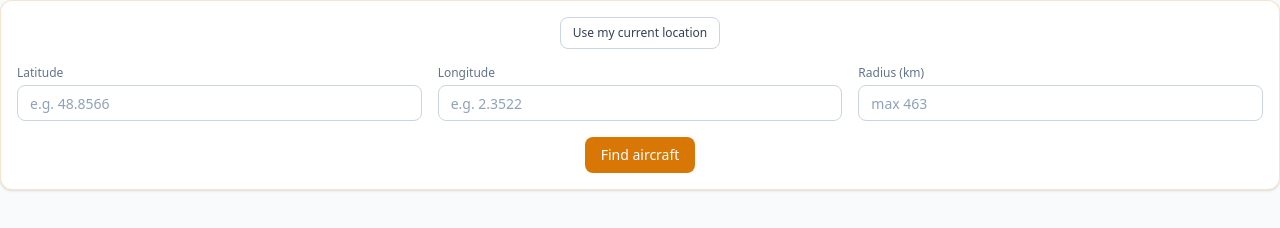
Test case: FlyOverForm › does not submit for a missing radius
Type "48.8566" into the field labelled "Latitude" at (219, 103), box [17,85,422,121]
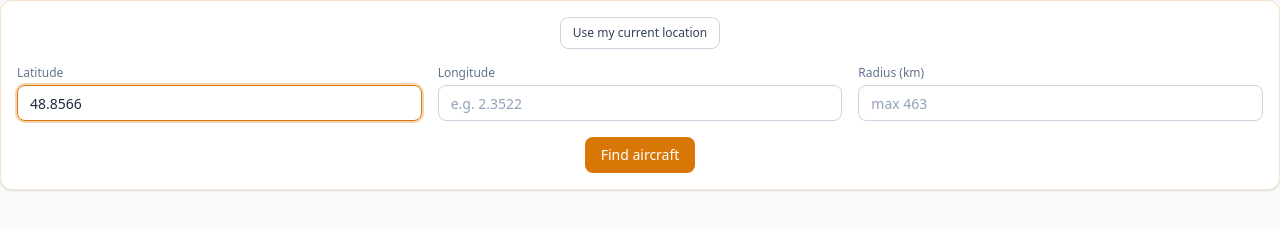
Type "2.3522" into the field labelled "Longitude" at (640, 103), box [438,85,842,121]
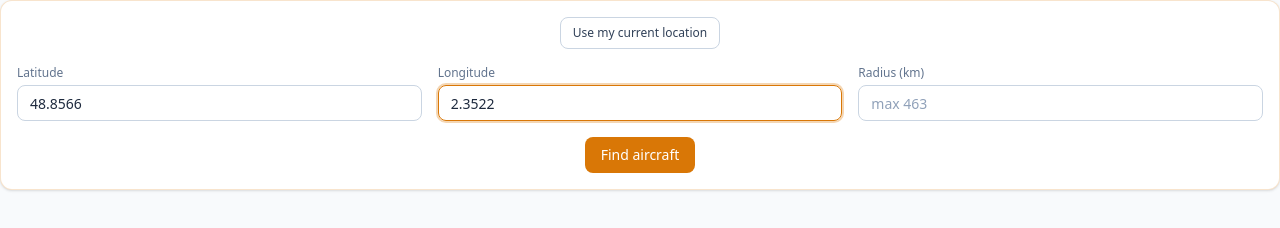
Click the button "Find aircraft" at (640, 155), box [585,137,695,173]
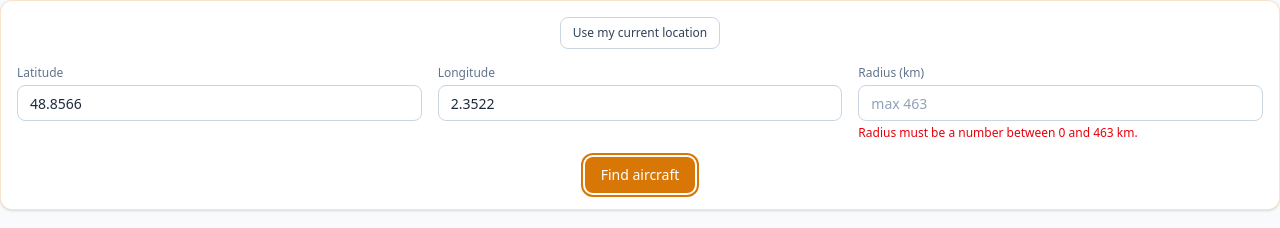
Check: the message shows "Radius", box [858,124,1138,141]
